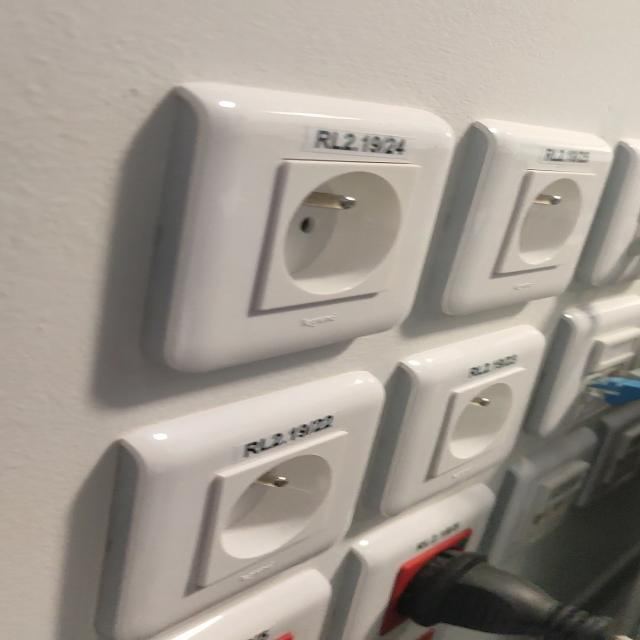house plug: (257, 158, 424, 311), (205, 432, 345, 587), (431, 367, 522, 480), (499, 171, 596, 272)
